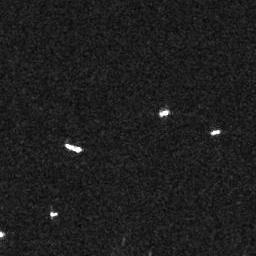ship: (64, 143, 81, 153), (210, 127, 221, 136), (158, 109, 170, 117), (49, 211, 58, 218)
